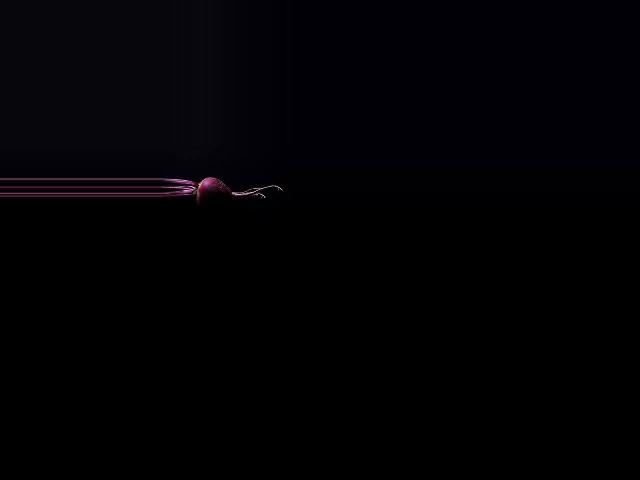beet: (160, 175, 282, 209)
